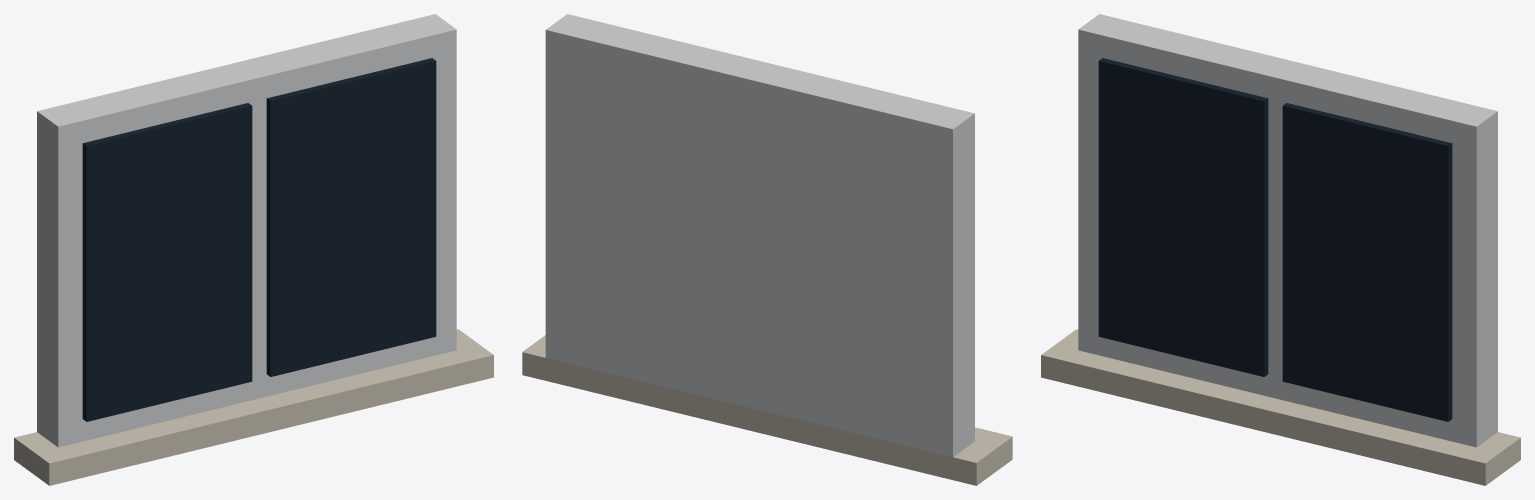
File: jendela.glb
The picture shows the model from 3 angles, left to right: view 1: azimuth 30°, elevation 25°; view 2: azimuth 150°, elevation 25°; view 3: azimuth 330°, elevation 25°; orthographic projection. The views are drawn at different scales.
Parts seen in each view (by area): view 1: potongan_jendela; view 2: potongan_jendela; view 3: potongan_jendela.
Part boxes in pixels (left/top/right/bottom): potongan_jendela: left=14, top=14, right=493, bottom=485; potongan_jendela: left=522, top=14, right=1012, bottom=485; potongan_jendela: left=1041, top=14, right=1520, bottom=485.
Bounding box in the file's own units: 2.9 × 2.14 × 0.4.
